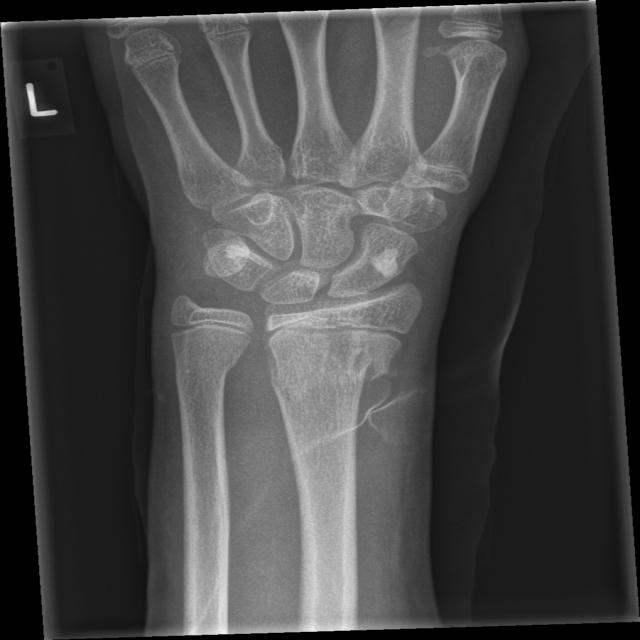radius fracture: (300, 330, 408, 480)
